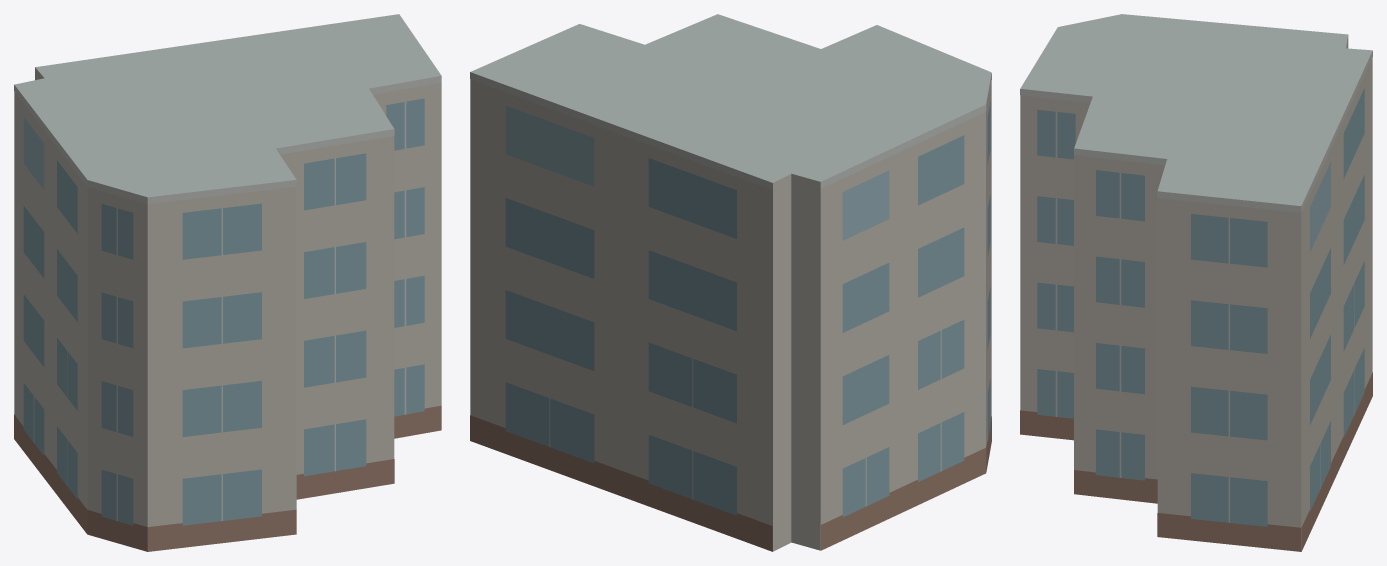
Rendered from survey-upis-32856098.glb.
3 renders of one model, left to right at view 1: azimuth 30°, elevation 25°; view 2: azimuth 150°, elevation 25°; view 3: azimuth 270°, elevation 25°, orthographic. The views are drawn at different scales.
Visible parts, largest first — view 1: survey-upis-32856098.tmp; view 2: survey-upis-32856098.tmp; view 3: survey-upis-32856098.tmp.
Part boxes in pixels (left/top/right/bottom): survey-upis-32856098.tmp: left=14, top=14, right=441, bottom=551; survey-upis-32856098.tmp: left=470, top=14, right=991, bottom=551; survey-upis-32856098.tmp: left=1020, top=14, right=1372, bottom=551.
Size of the model in its own units: 15.15 by 12.7 by 11.75.
